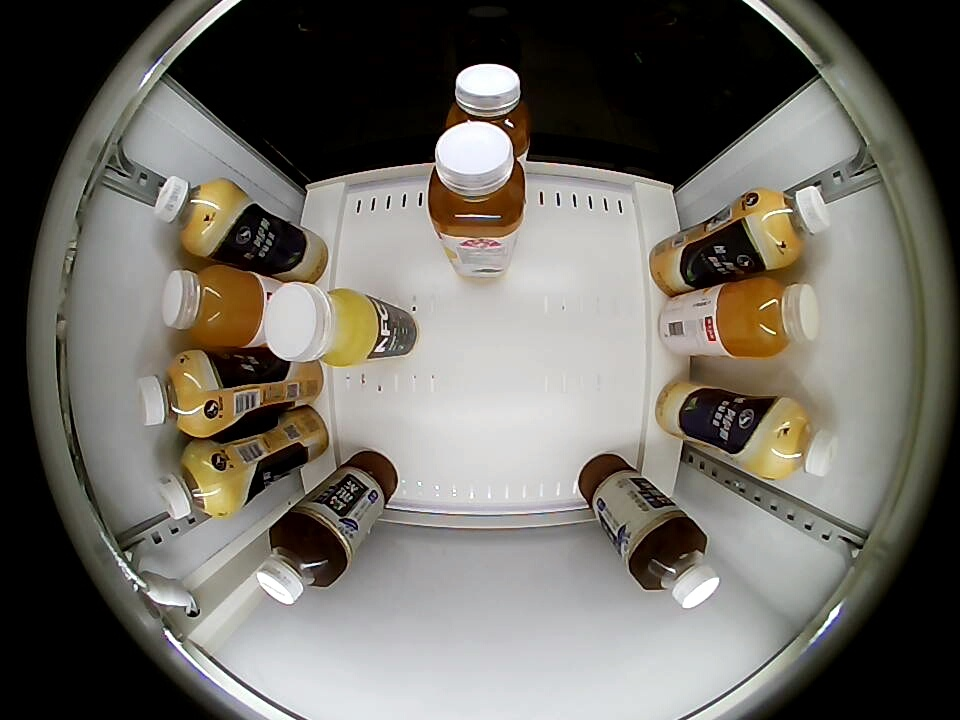asamu: (756, 400, 839, 480), (137, 352, 215, 436), (749, 186, 831, 265), (154, 176, 234, 252), (157, 446, 231, 520)
chapai: (425, 121, 527, 240), (444, 64, 531, 155)
nfc: (266, 282, 377, 367)
weic: (716, 276, 820, 359), (160, 265, 265, 347)
wulongcha: (632, 518, 720, 610), (256, 517, 344, 606)
